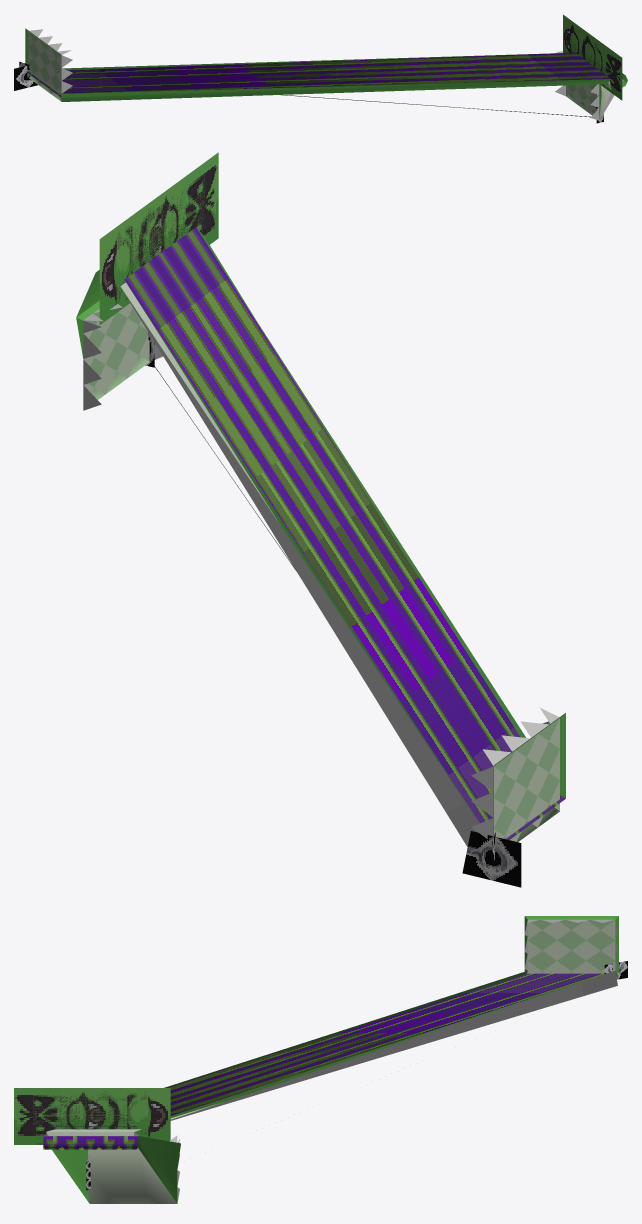
The picture shows the model from 3 angles, top to bottom: view 1: azimuth 30°, elevation 25°; view 2: azimuth 150°, elevation 25°; view 3: azimuth 270°, elevation 25°; orthographic projection. The views are drawn at different scales.
Visible parts, largest first — view 1: npc_hon_g; view 2: npc_hon_g; view 3: npc_hon_g.
Boxes of the visible parts, x1=… form: npc_hon_g: x1=14, y1=14, x2=627, y2=123; npc_hon_g: x1=76, y1=152, x2=565, y2=887; npc_hon_g: x1=14, y1=916, x2=627, y2=1203.
Size of the model in its own units: 9.25 by 2.4 by 9.41.
11 materials, 11 textured.
